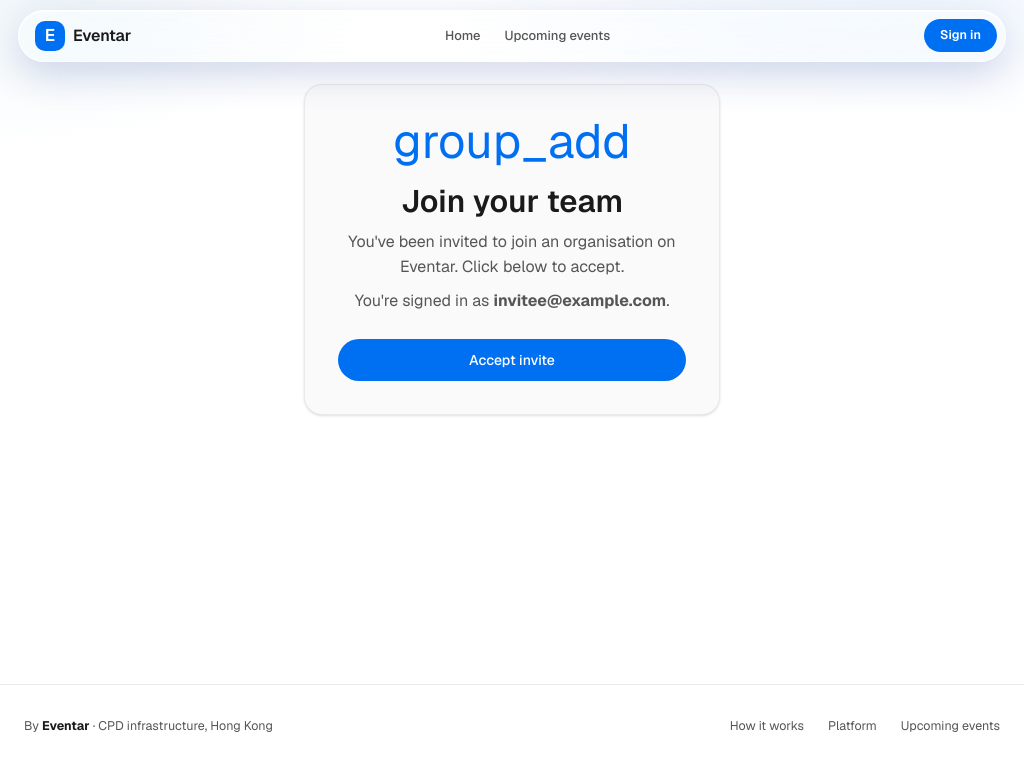
Test case: invite page — the email already has practitioner data (D3) › shows the prompt with the email and both choices instead of accepting
The width and height of the screenshot is (1024, 764).
Click the button "Accept invite": (512,360) top-left (337, 338), bottom-right (687, 382)
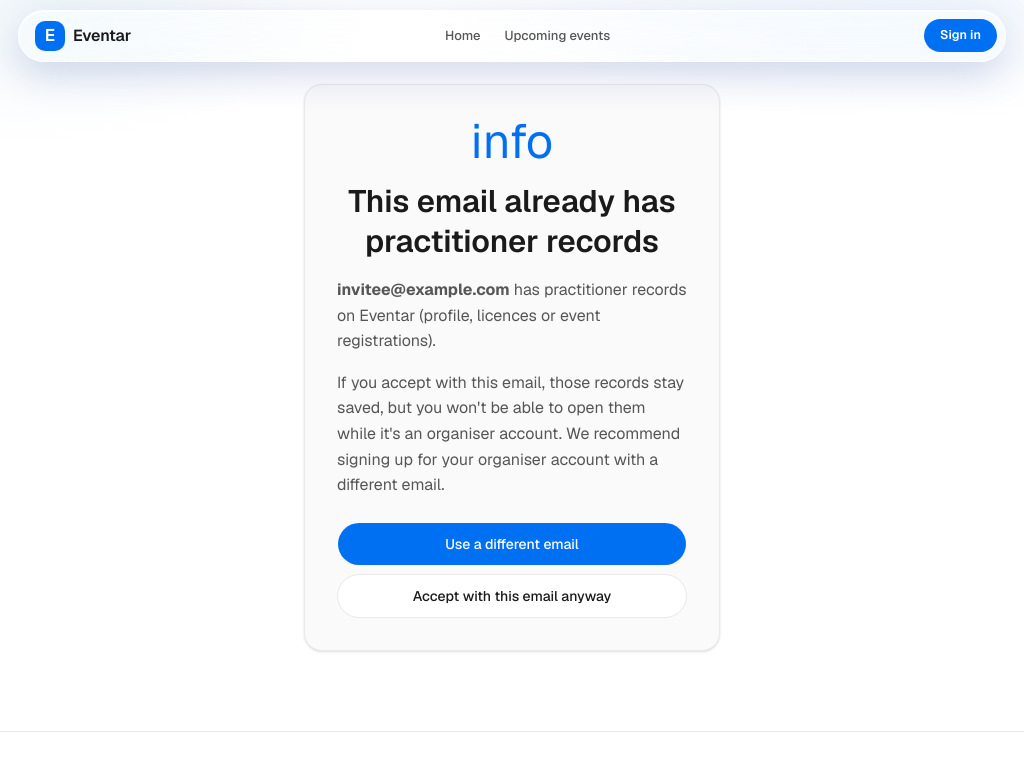
Expected: the text "those records stay saved, but you won't be able to open them" is shown, top-left (337, 372), bottom-right (684, 495)
Expected: the button "Use a different email" is shown, top-left (337, 522), bottom-right (687, 566)
Expected: the button "Accept with this email anyway" is shown, top-left (337, 574), bottom-right (687, 618)
